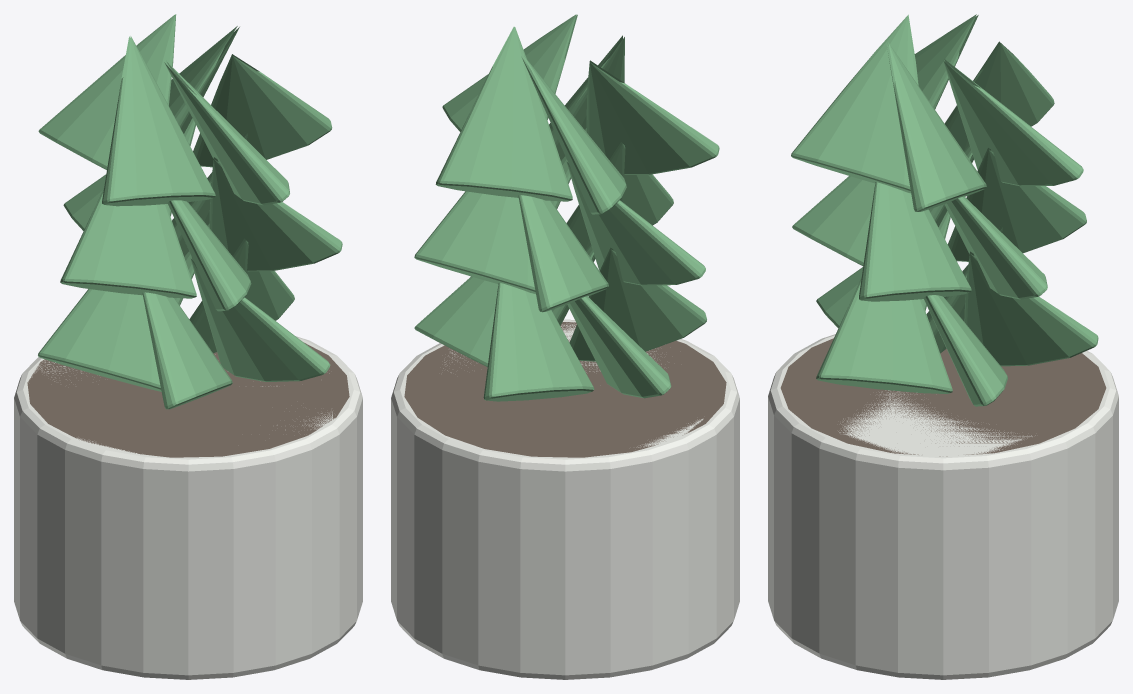
The model's file is office_lounge_seating_reference_board_68.glb.
3 renders of one model, left to right at view 1: azimuth 30°, elevation 25°; view 2: azimuth 150°, elevation 25°; view 3: azimuth 270°, elevation 25°, orthographic.
Visible parts, largest first — view 1: Cylinder; view 2: Cylinder; view 3: Cylinder.
Boxes of the visible parts, x1=… form: Cylinder: x1=14, y1=14, x2=362, y2=679; Cylinder: x1=391, y1=14, x2=739, y2=679; Cylinder: x1=768, y1=14, x2=1118, y2=679.
Bounding box in the file's own units: 0.546 × 0.9875 × 0.546.
